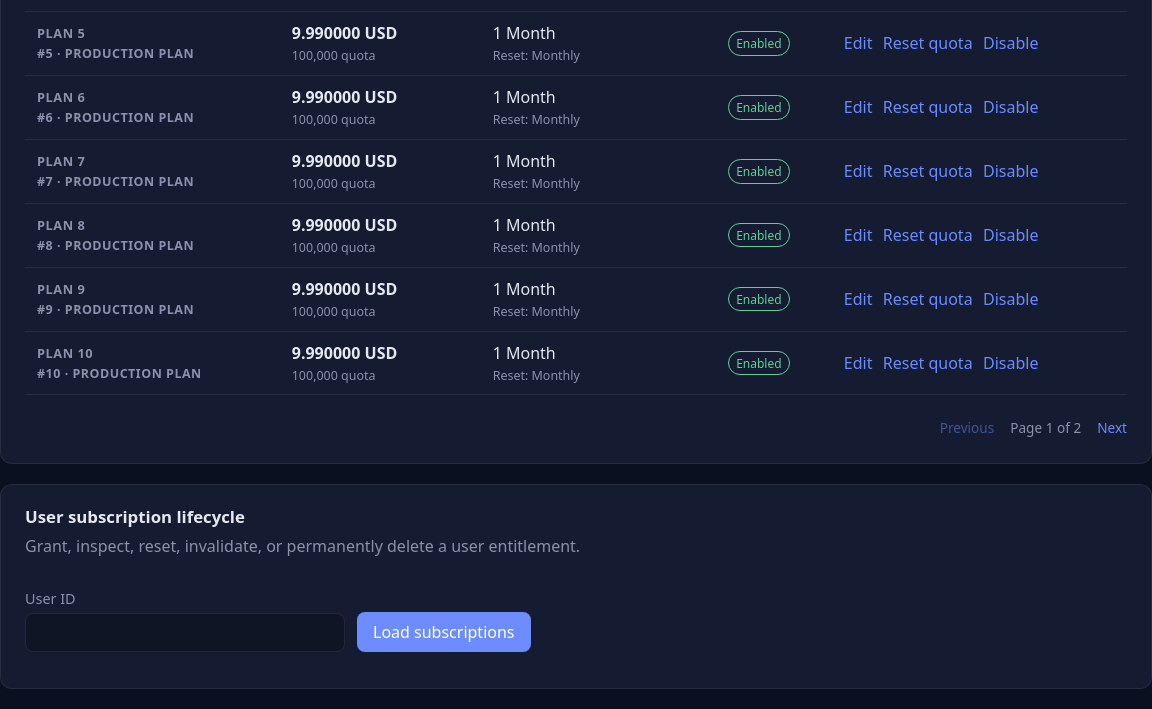
Test: SubscriptionAdminView access and plan browsing › renders plans, applies client-side search/status filters, and paginates bounded results
(page scrolled)
Expected: the text "Page 1 of 2" is shown, [1010,418,1081,437]
Click the button "Next".
click(1112, 427)  # box [1097,412,1127,443]
(page scrolled)
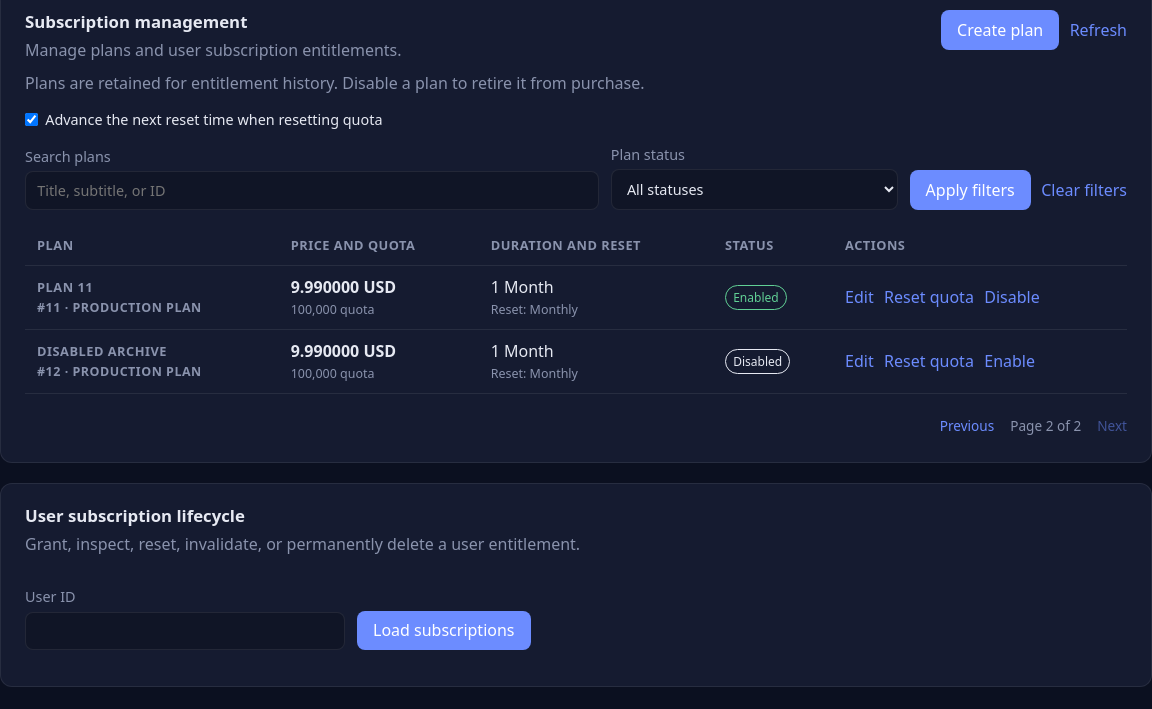
Expected: the text "Disabled Archive" is shown, [37,342,167,360]
Type "archive" into the field labelled "Search plans".
click(312, 191); type("archive")  # box [25,171,599,210]
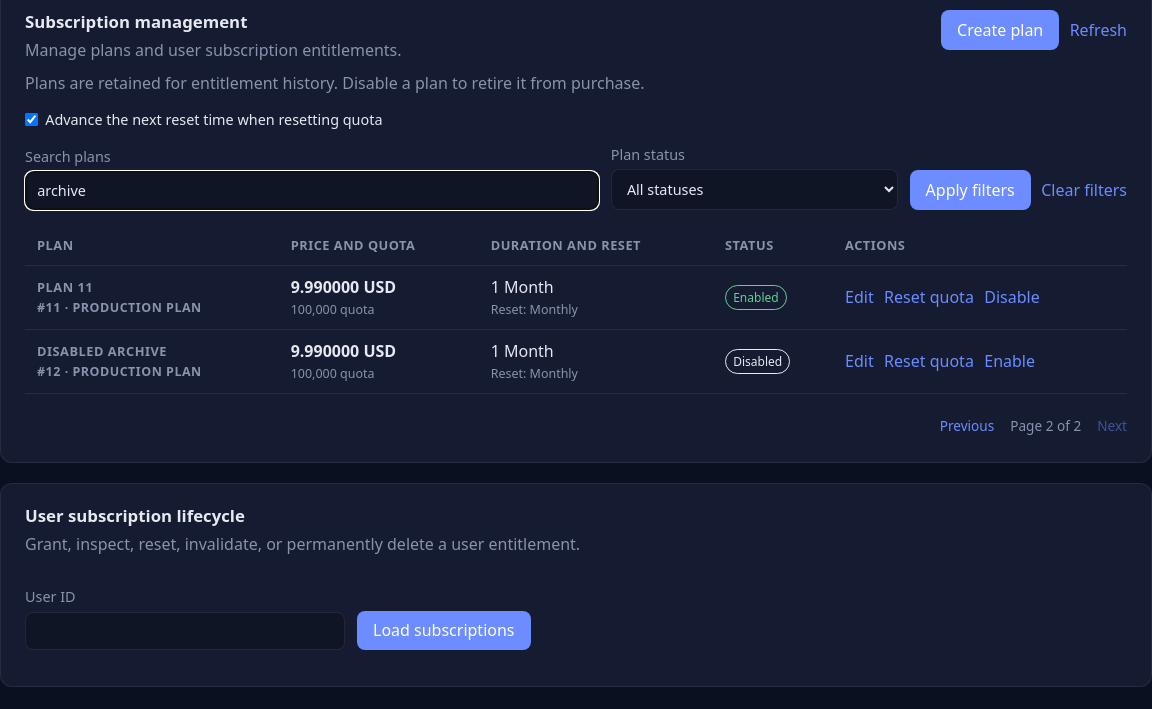
Select "Disabled" in the dropdown labelled "Plan status" at (754, 190), box [611,169,898,210]
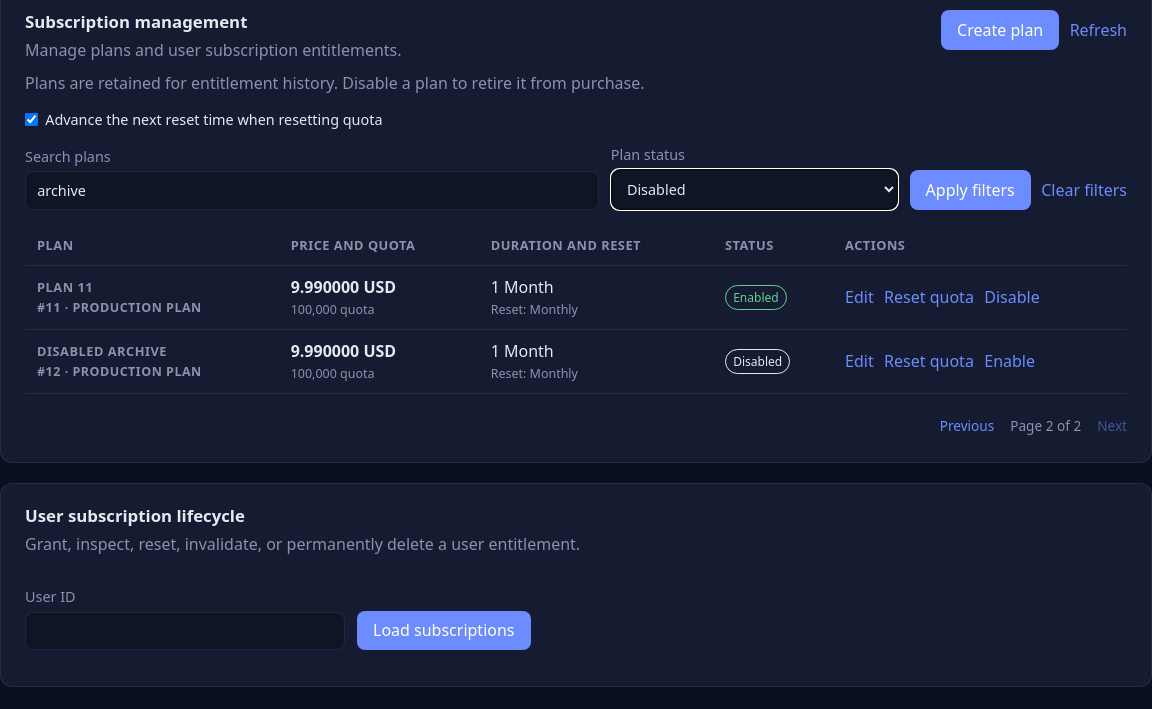
Click the button "Apply filters".
click(970, 190)  # box [910,170,1031,210]
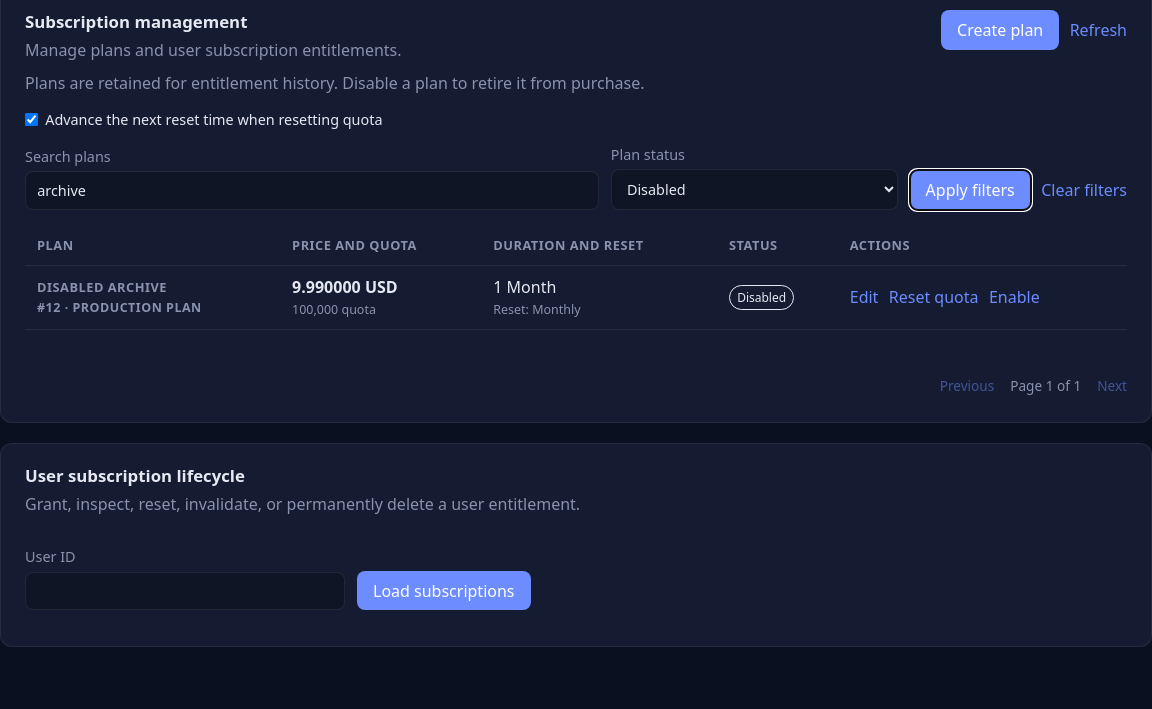
Expected: the text "Disabled Archive" is shown, [37,278,167,296]
Expected: the text "Plan 1" is gone
Expected: the text "Page 1 of 1" is shown, [1010,376,1081,395]
